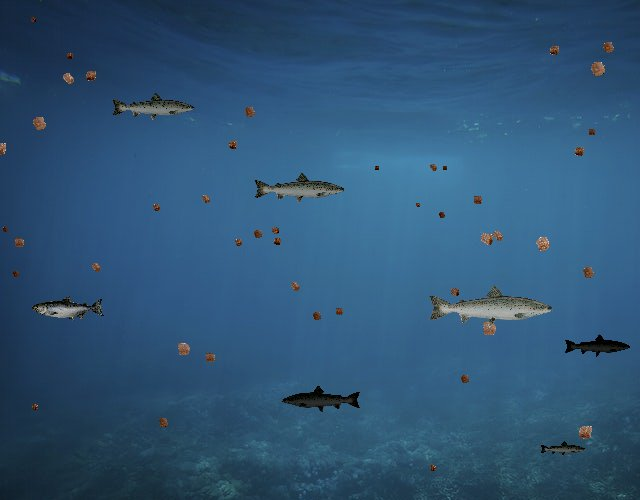Fish: (426, 283, 555, 329), (253, 172, 347, 206), (110, 91, 196, 122), (281, 385, 362, 414), (32, 295, 105, 321), (563, 333, 631, 358), (539, 440, 586, 457)
Pellet: (571, 419, 599, 447), (473, 225, 500, 252), (56, 66, 81, 91), (576, 260, 600, 284), (426, 461, 440, 475), (28, 400, 42, 414), (27, 14, 39, 26)
